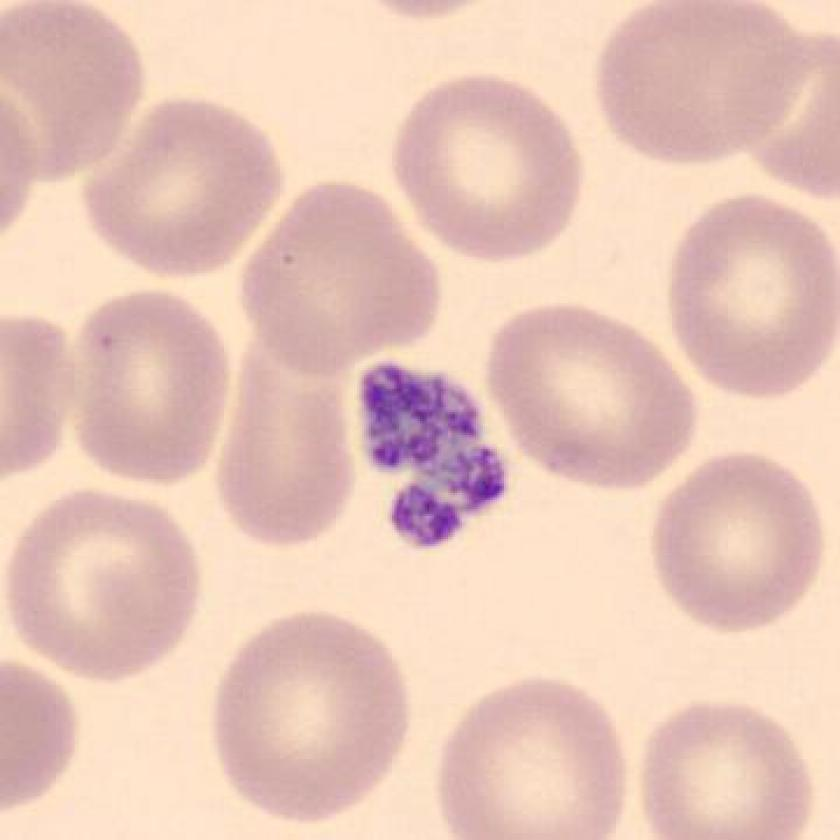platelets: (346, 348, 519, 566)
